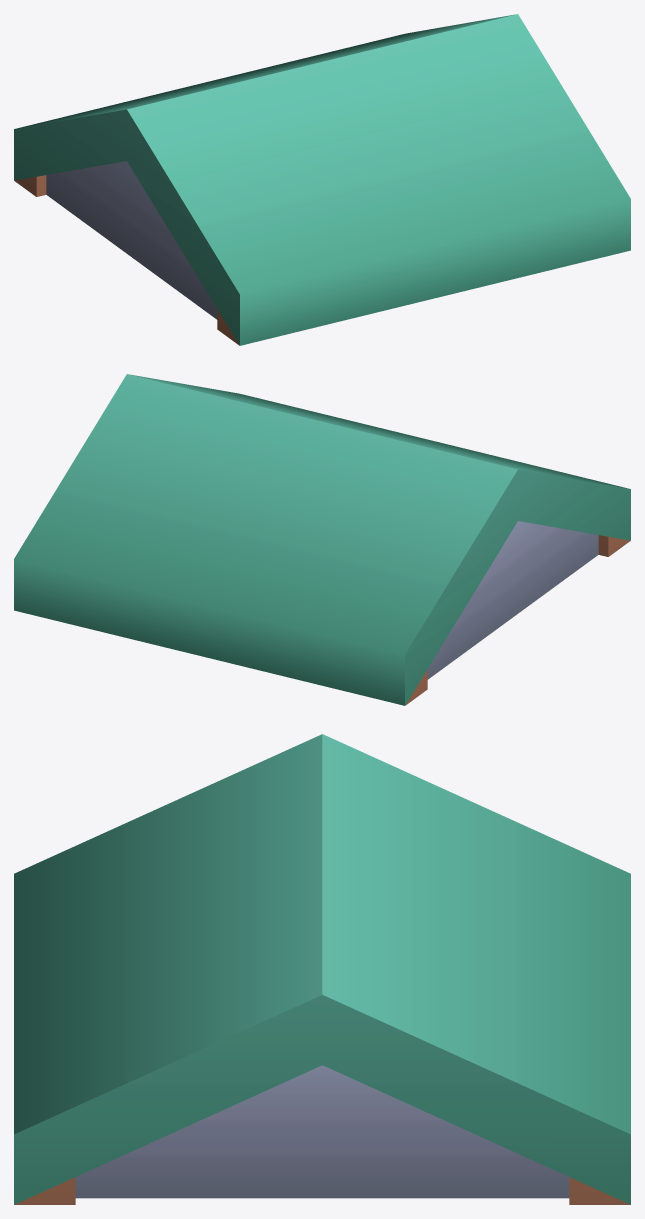
File: roof-gable-top.glb
3 renders of one model, top to bottom at view 1: azimuth 30°, elevation 25°; view 2: azimuth 150°, elevation 25°; view 3: azimuth 270°, elevation 25°, orthographic. The views are drawn at different scales.
Parts seen in each view (by area): view 1: roof-gable-top; view 2: roof-gable-top; view 3: roof-gable-top.
Part boxes in pixels (x1,y1,x2,y2): roof-gable-top: [14, 14, 630, 345]; roof-gable-top: [14, 374, 630, 705]; roof-gable-top: [14, 734, 630, 1204].
Bounding box in the file's own units: 1 × 0.3759 × 1.
Materials: 1 (1 with a texture image).
